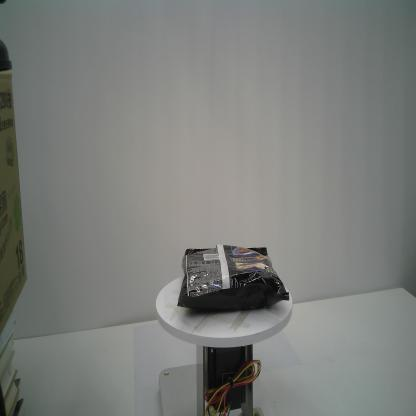Instant Noodles: (176, 244, 290, 311)
